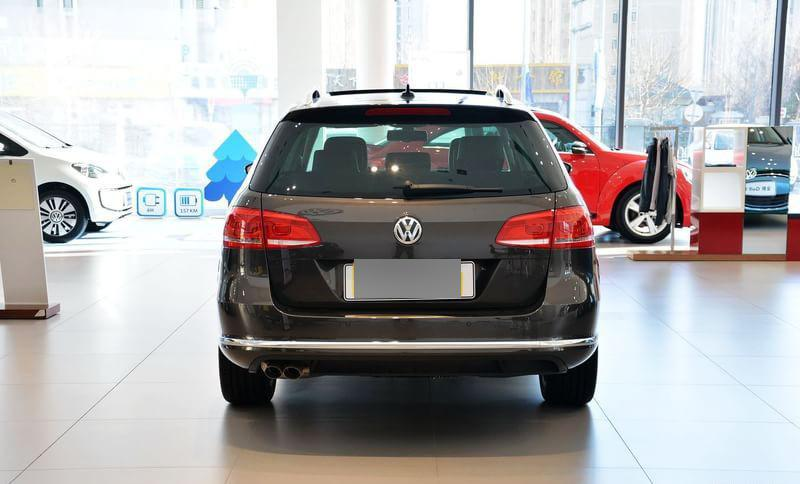Wagon: (216, 82, 603, 409)
